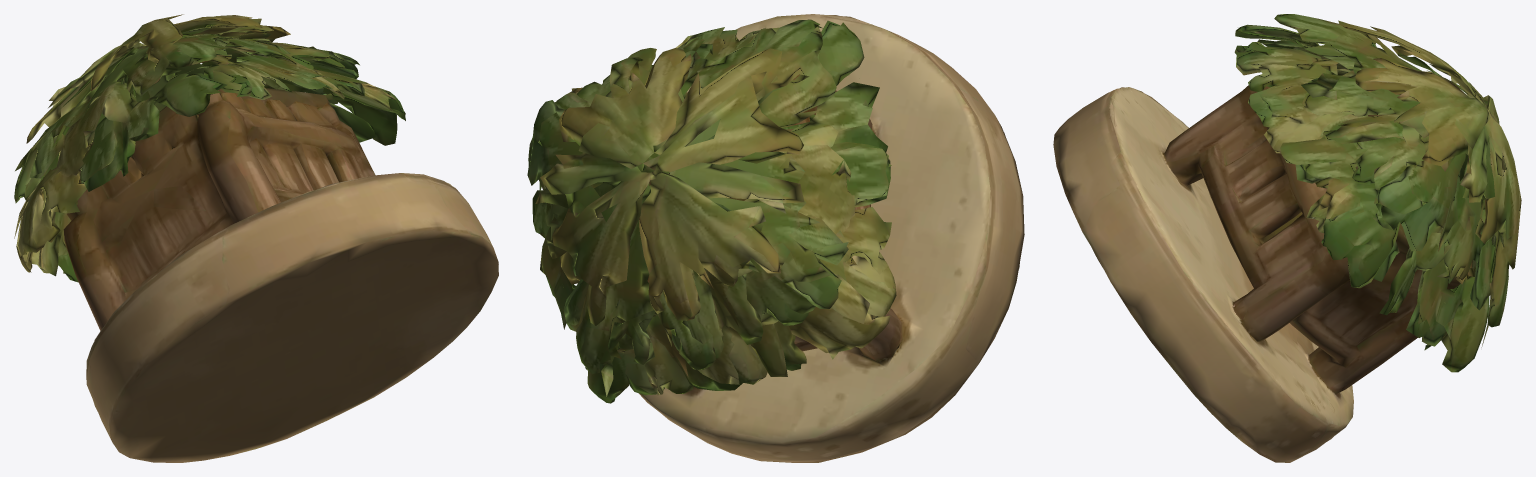
The model's file is sw-shelter.glb.
The picture shows the model from 3 angles, left to right: view 1: azimuth 30°, elevation 25°; view 2: azimuth 150°, elevation 25°; view 3: azimuth 270°, elevation 25°; orthographic projection. The views are drawn at different scales.
Parts seen in each view (by area): view 1: geometry_0; view 2: geometry_0; view 3: geometry_0.
Part boxes in pixels (x1,y1,x2,y2): geometry_0: (14, 14, 498, 462); geometry_0: (527, 14, 1024, 462); geometry_0: (1053, 14, 1521, 462).
Bounding box in the file's own units: 0.8395 × 0.9014 × 0.9491.
1 material, 1 textured.
